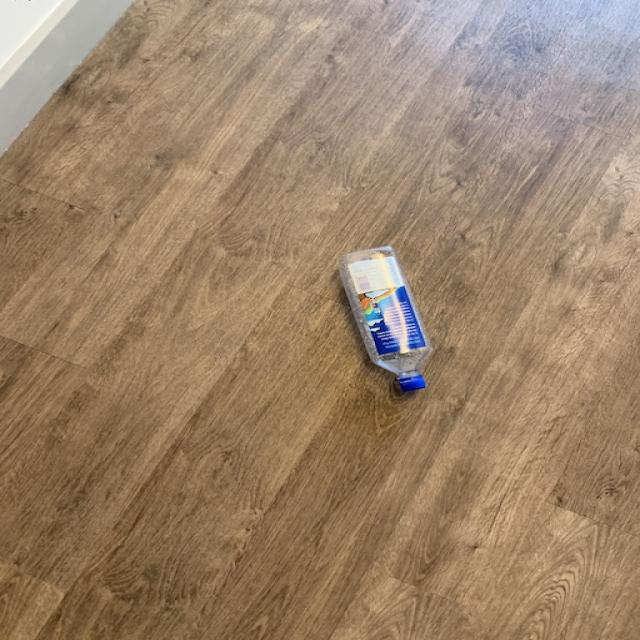Waste: (340, 246, 434, 392)
